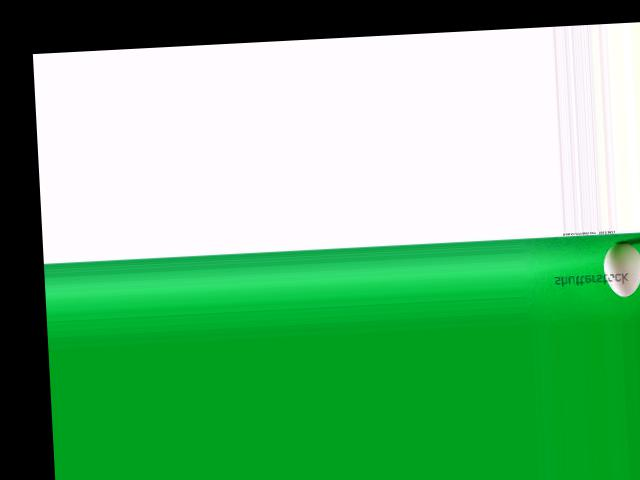egg: (603, 240, 640, 297)
